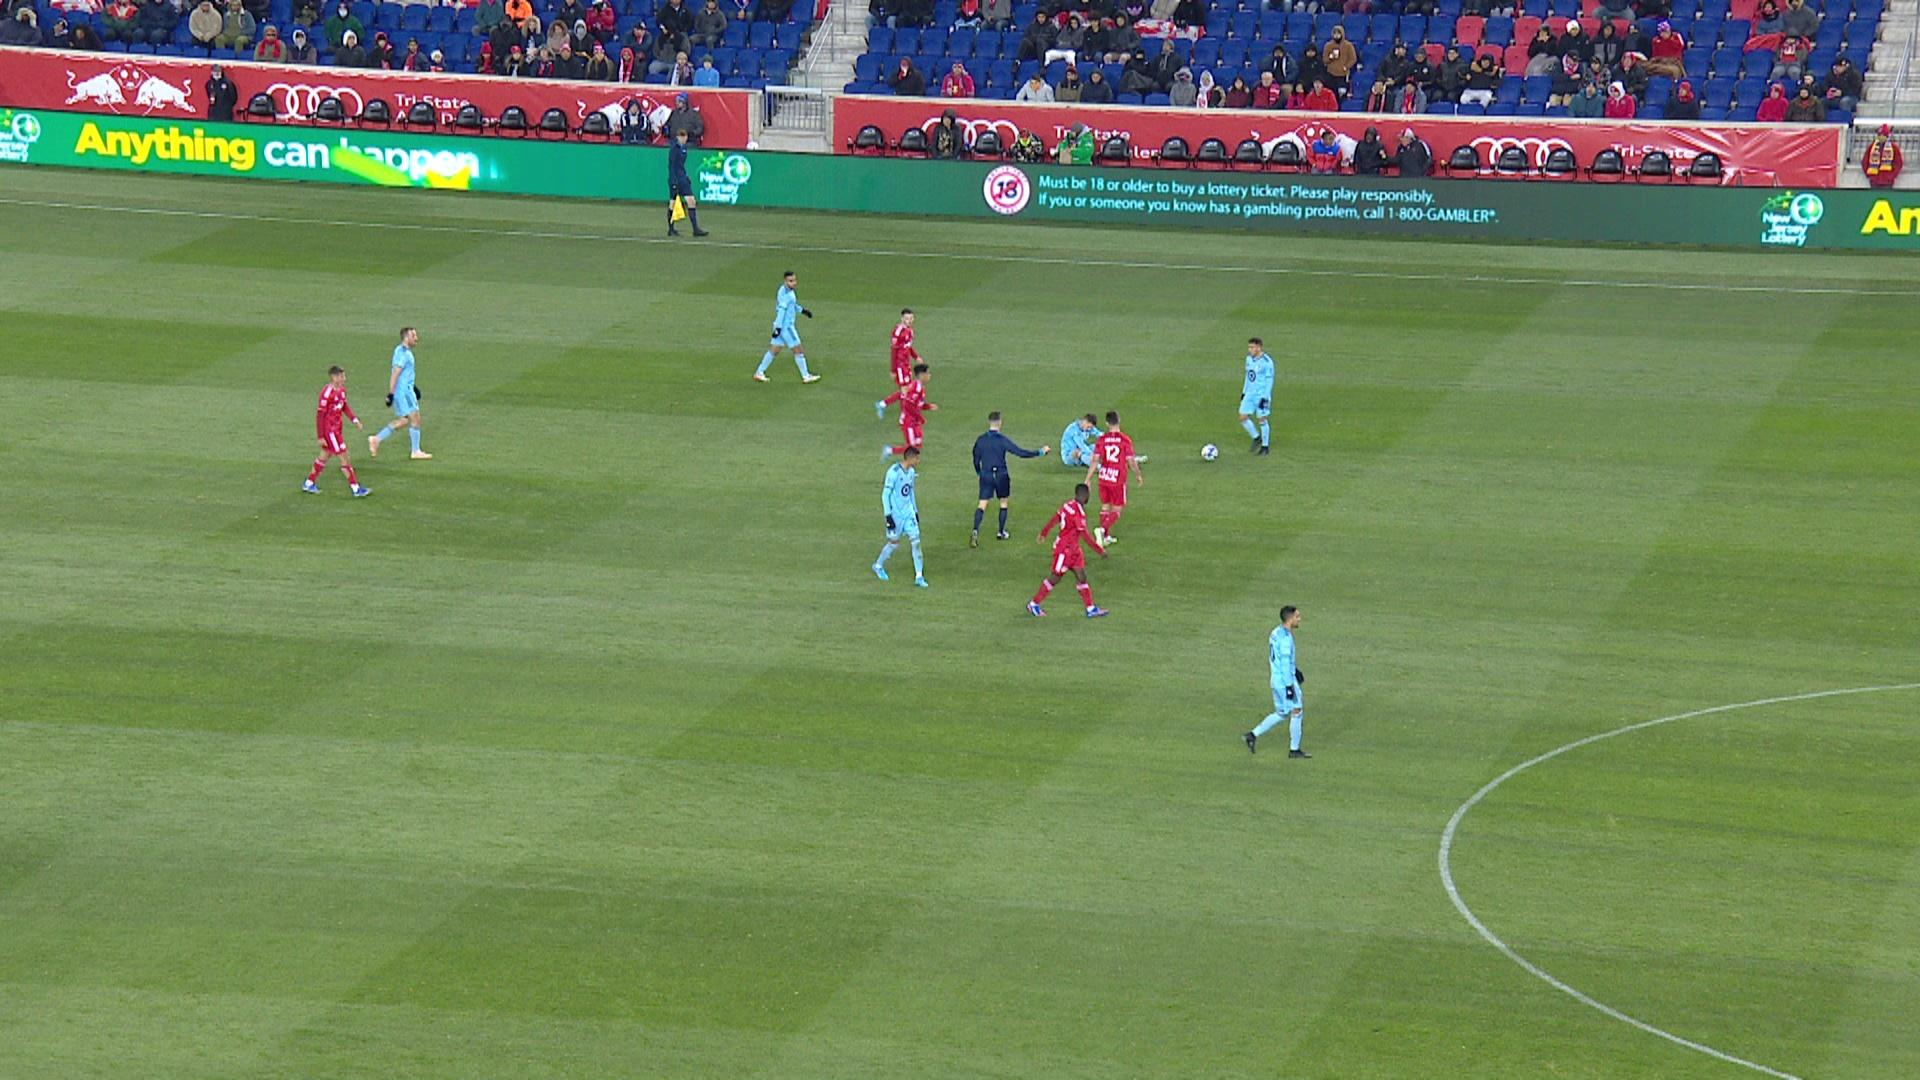football: (1200, 443, 1220, 463)
